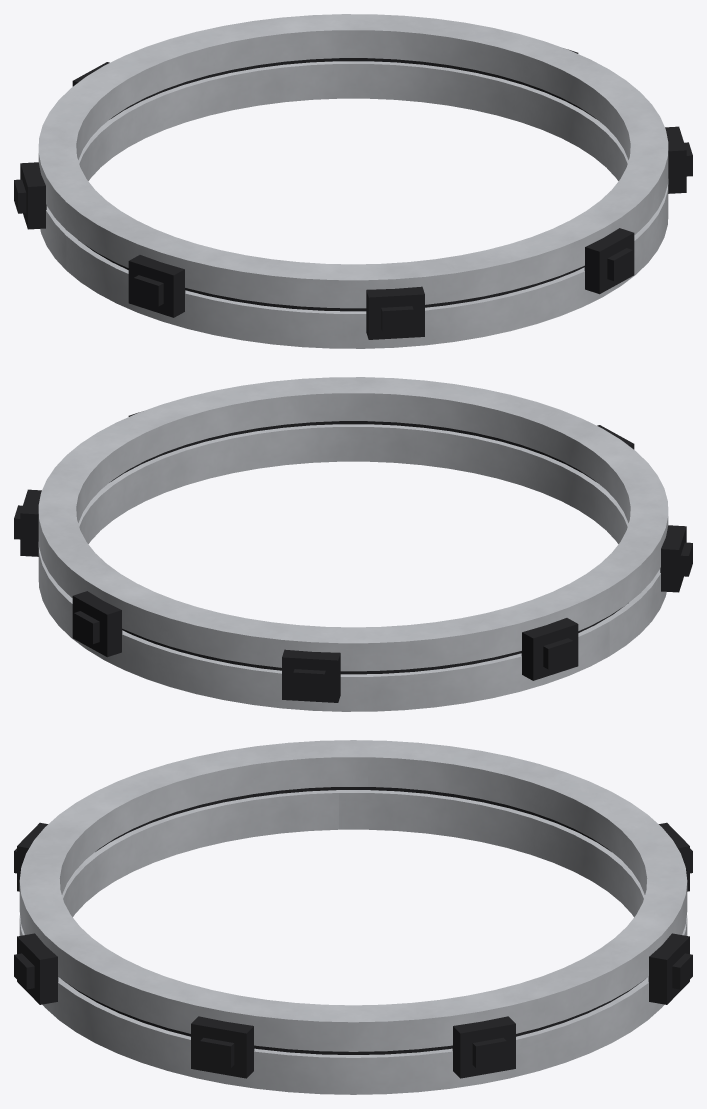
Rendered from stage00_decoupler_l.glb.
3 views of the same model, one above another, from view 1: azimuth 30°, elevation 25°; view 2: azimuth 150°, elevation 25°; view 3: azimuth 270°, elevation 25° (orthographic). The views are drawn at different scales.
Visible parts, largest first — view 1: upper_ring, lower_ring, latches_pushers, sep_joint; view 2: upper_ring, lower_ring, latches_pushers, sep_joint; view 3: upper_ring, lower_ring, latches_pushers, sep_joint.
Part boxes in pixels (bbox=[...]): upper_ring: bbox=[38, 14, 668, 308]; lower_ring: bbox=[40, 61, 668, 348]; latches_pushers: bbox=[14, 49, 692, 339]; sep_joint: bbox=[78, 58, 597, 311]; upper_ring: bbox=[38, 377, 668, 671]; lower_ring: bbox=[38, 424, 666, 711]; latches_pushers: bbox=[14, 412, 692, 702]; sep_joint: bbox=[109, 421, 628, 674]; upper_ring: bbox=[19, 740, 687, 1051]; lower_ring: bbox=[19, 790, 687, 1094]; latches_pushers: bbox=[14, 822, 692, 1078]; sep_joint: bbox=[63, 787, 643, 1054].
Size of the model in its own units: 3.81 by 0.45 by 3.81.
Materials: 2 (1 with a texture image).
